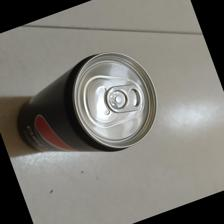Pepsi: (18, 51, 159, 153)
